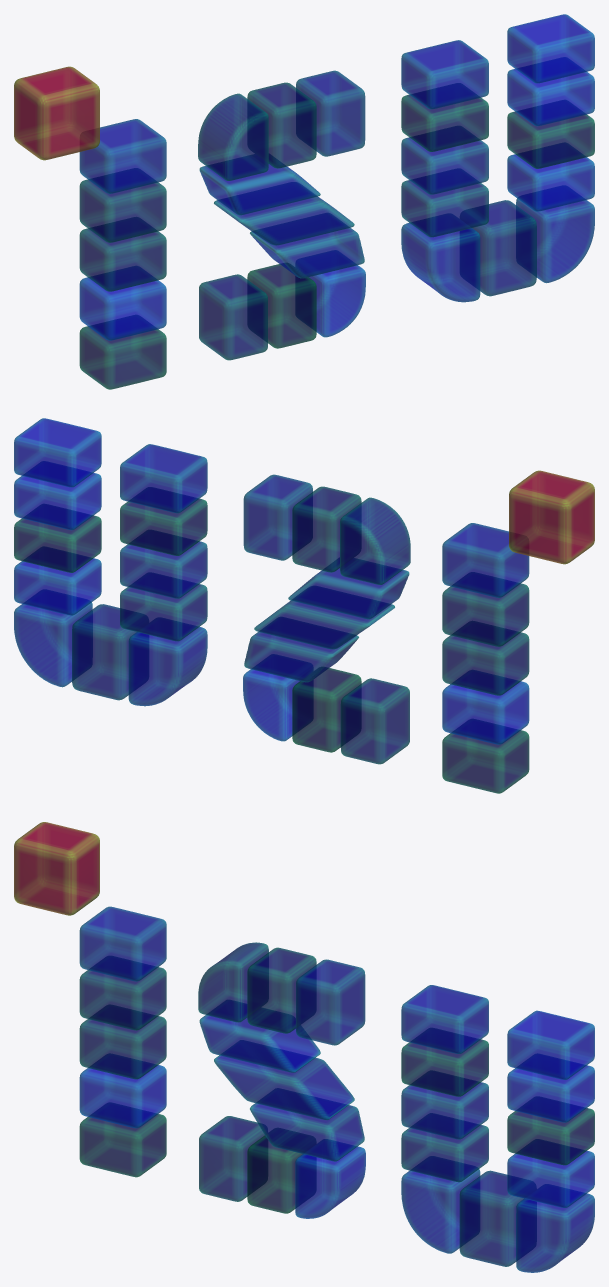
File: isu-blocks.glb
3 renders of one model, top to bottom at view 1: azimuth 30°, elevation 25°; view 2: azimuth 150°, elevation 25°; view 3: azimuth 330°, elevation 25°, orthographic.
Visible parts, largest first — view 1: block-05, block-24, block-25, block-23, block-02, block-01, block-03, block-00, block-10, block-08, block-12, block-07 (+14 smaller); view 2: block-05, block-24, block-25, block-23, block-03, block-02, block-01, block-00, block-10, block-12, block-08, block-07 (+14 smaller); view 3: block-05, block-10, block-24, block-23, block-11, block-09, block-25, block-04, block-03, block-01, block-02, block-00 (+14 smaller).
Boxes of the visible parts, x1=… form: block-05: x1=14, y1=66, x2=99, y2=160; block-24: x1=460, y1=200, x2=536, y2=296; block-25: x1=516, y1=186, x2=594, y2=283; block-23: x1=401, y1=214, x2=480, y2=302; block-02: x1=79, y1=217, x2=166, y2=291; block-01: x1=79, y1=266, x2=166, y2=340; block-03: x1=79, y1=168, x2=166, y2=242; block-00: x1=79, y1=315, x2=166, y2=389; block-10: x1=214, y1=182, x2=354, y2=245; block-08: x1=296, y1=70, x2=365, y2=156; block-12: x1=199, y1=274, x2=267, y2=360; block-07: x1=247, y1=82, x2=316, y2=168; block-05: x1=509, y1=470, x2=594, y2=564; block-24: x1=72, y1=604, x2=148, y2=700; block-25: x1=14, y1=590, x2=92, y2=687; block-23: x1=128, y1=618, x2=207, y2=706; block-03: x1=442, y1=572, x2=529, y2=646; block-02: x1=442, y1=621, x2=529, y2=695; block-01: x1=442, y1=670, x2=529, y2=744; block-00: x1=442, y1=719, x2=529, y2=793; block-10: x1=254, y1=586, x2=394, y2=649; block-12: x1=340, y1=678, x2=409, y2=764; block-08: x1=243, y1=474, x2=312, y2=560; block-07: x1=292, y1=486, x2=361, y2=572; block-05: x1=14, y1=822, x2=99, y2=915; block-10: x1=214, y1=1040, x2=354, y2=1120; block-24: x1=459, y1=1170, x2=536, y2=1266; block-23: x1=401, y1=1156, x2=480, y2=1253; block-11: x1=250, y1=1088, x2=364, y2=1161; block-09: x1=199, y1=1000, x2=320, y2=1072; block-25: x1=516, y1=1184, x2=594, y2=1272; block-04: x1=79, y1=906, x2=166, y2=981; block-03: x1=79, y1=956, x2=166, y2=1030; block-01: x1=79, y1=1054, x2=166, y2=1128; block-02: x1=79, y1=1005, x2=166, y2=1079; block-00: x1=79, y1=1103, x2=166, y2=1177.
Size of the model in its own units: 7.37 by 3.92 by 0.715.
